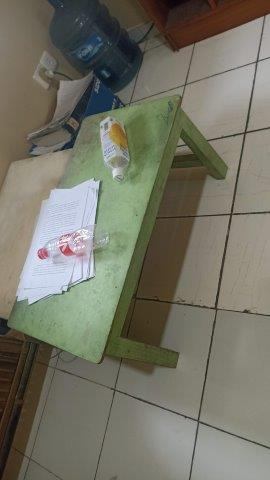botolplastik: (36, 224, 110, 257), (100, 116, 130, 184)
kertas: (14, 178, 101, 303)
